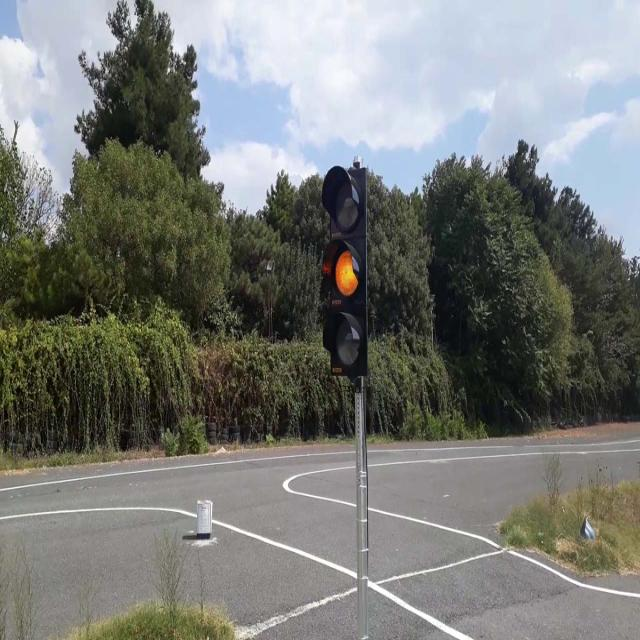sari: (323, 163, 365, 373)
